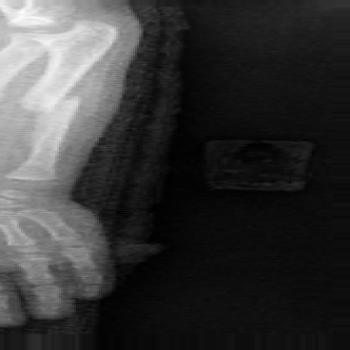Fracture: (13, 93, 84, 111)
